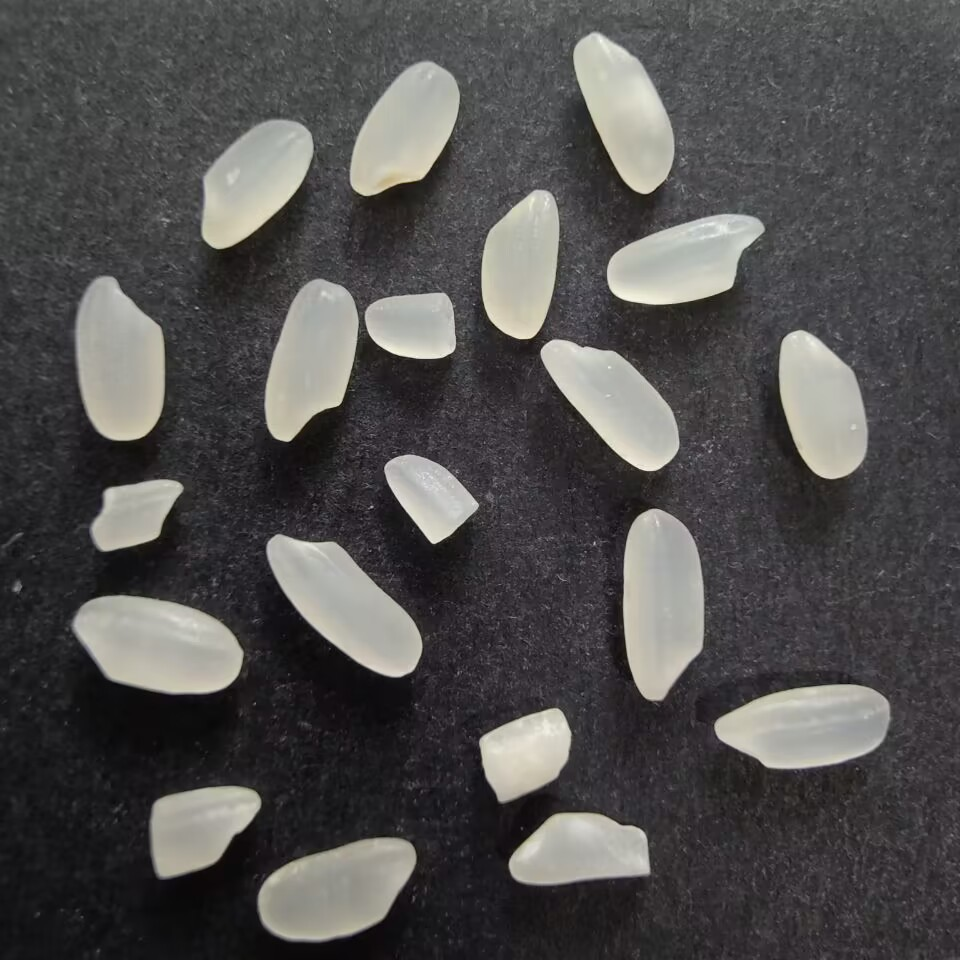broken: (502, 807, 653, 891), (144, 782, 261, 883), (473, 703, 574, 809), (378, 452, 482, 547), (88, 473, 184, 560), (357, 291, 460, 360)
rice: (260, 532, 423, 678), (538, 338, 681, 474), (68, 594, 246, 696), (255, 834, 419, 944), (259, 274, 363, 446), (571, 32, 678, 195), (70, 272, 170, 446), (620, 507, 708, 704), (343, 56, 464, 199), (193, 116, 317, 253), (710, 681, 890, 773), (605, 212, 765, 309), (773, 327, 871, 479), (479, 188, 559, 340)
